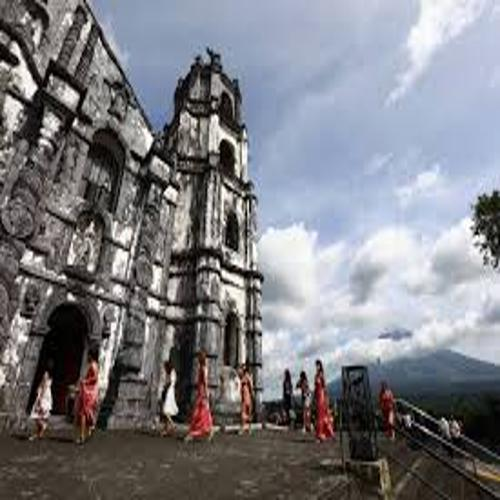Daraga Church: (2, 1, 272, 456)
